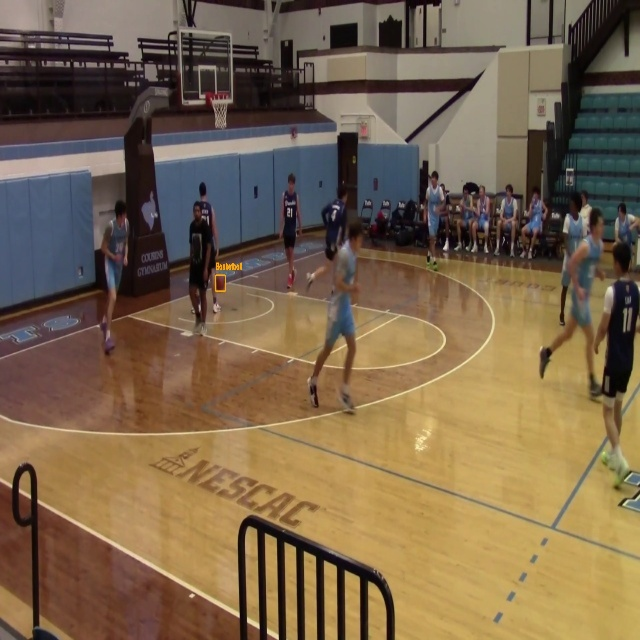Basketball: (216, 275, 225, 291)
